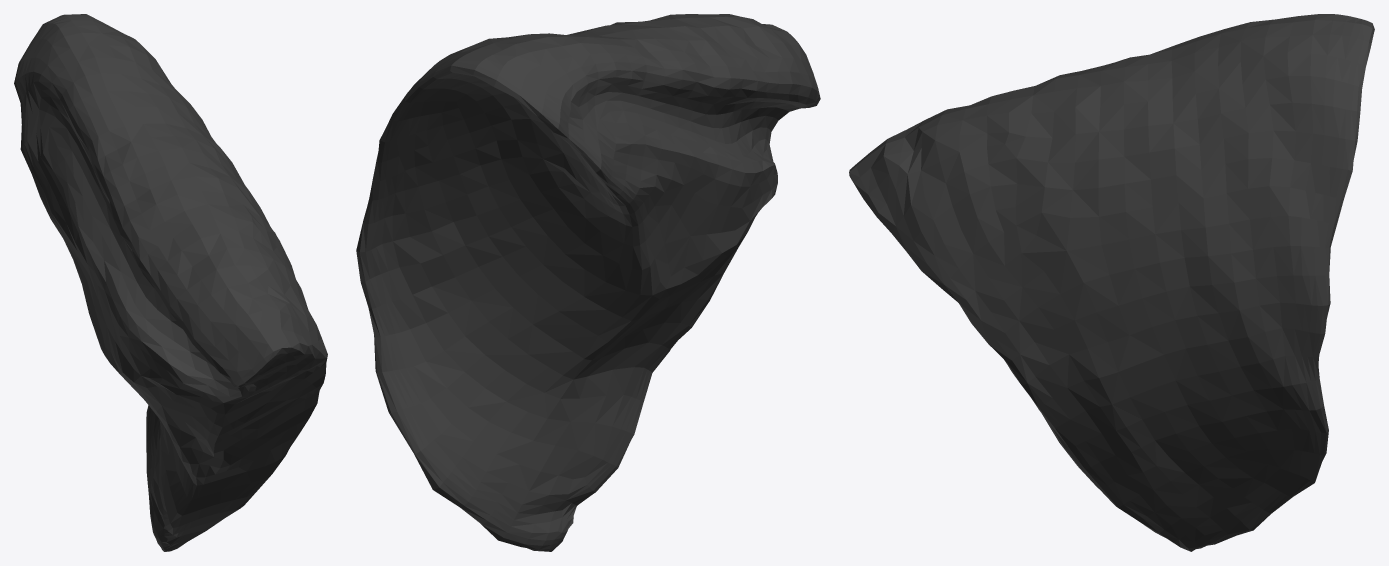
File: L_lung_caudal_lung_lobe_LOW.glb
The picture shows the model from 3 angles, left to right: view 1: azimuth 30°, elevation 25°; view 2: azimuth 150°, elevation 25°; view 3: azimuth 270°, elevation 25°; orthographic projection. The views are drawn at different scales.
Parts seen in each view (by area): view 1: L_lung_caudal_lung_lobe_LOW; view 2: L_lung_caudal_lung_lobe_LOW; view 3: L_lung_caudal_lung_lobe_LOW.
Part boxes in pixels (bbox=[...]): L_lung_caudal_lung_lobe_LOW: bbox=[14, 14, 327, 551]; L_lung_caudal_lung_lobe_LOW: bbox=[356, 14, 820, 551]; L_lung_caudal_lung_lobe_LOW: bbox=[849, 14, 1374, 551].
Size of the model in its own units: 0.0063 by 0.0138 by 0.0127.
1 material, 1 textured.
